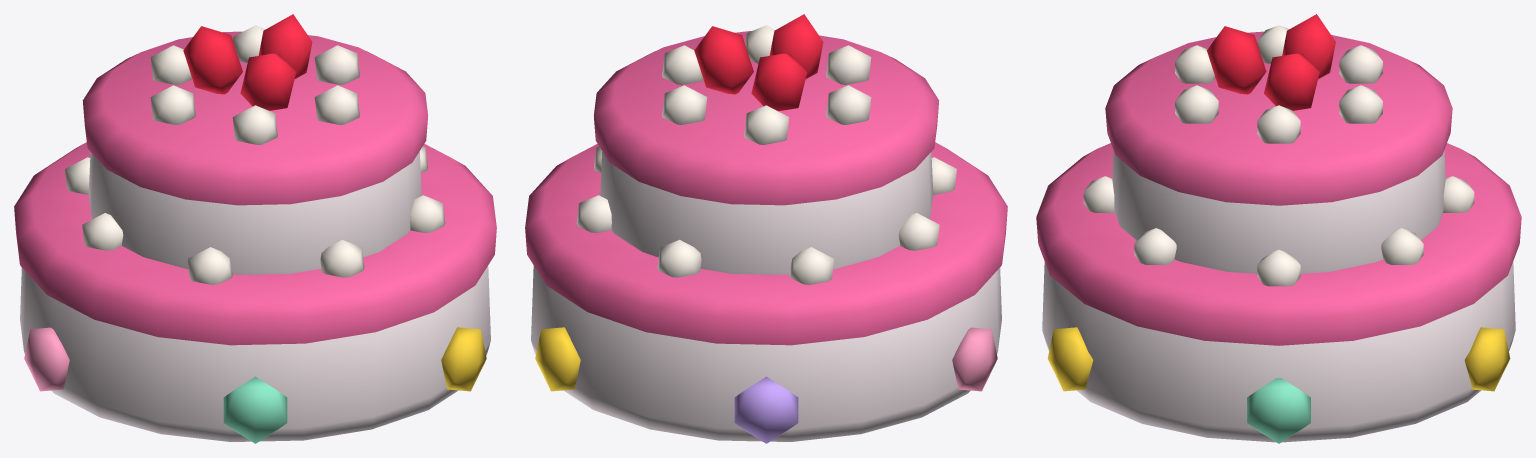
File: w1_08_cake.glb
3 renders of one model, left to right at view 1: azimuth 30°, elevation 25°; view 2: azimuth 150°, elevation 25°; view 3: azimuth 270°, elevation 25°, orthographic.
Visible parts, largest first — view 1: W1_08_Cake; view 2: W1_08_Cake; view 3: W1_08_Cake.
Boxes of the visible parts, x1,y1,x2,y2 form: W1_08_Cake: [14, 14, 496, 443]; W1_08_Cake: [525, 14, 1007, 443]; W1_08_Cake: [1036, 14, 1521, 443].
Bounding box in the file's own units: 2.62 × 1.75 × 2.46.
1 material, 1 textured.
